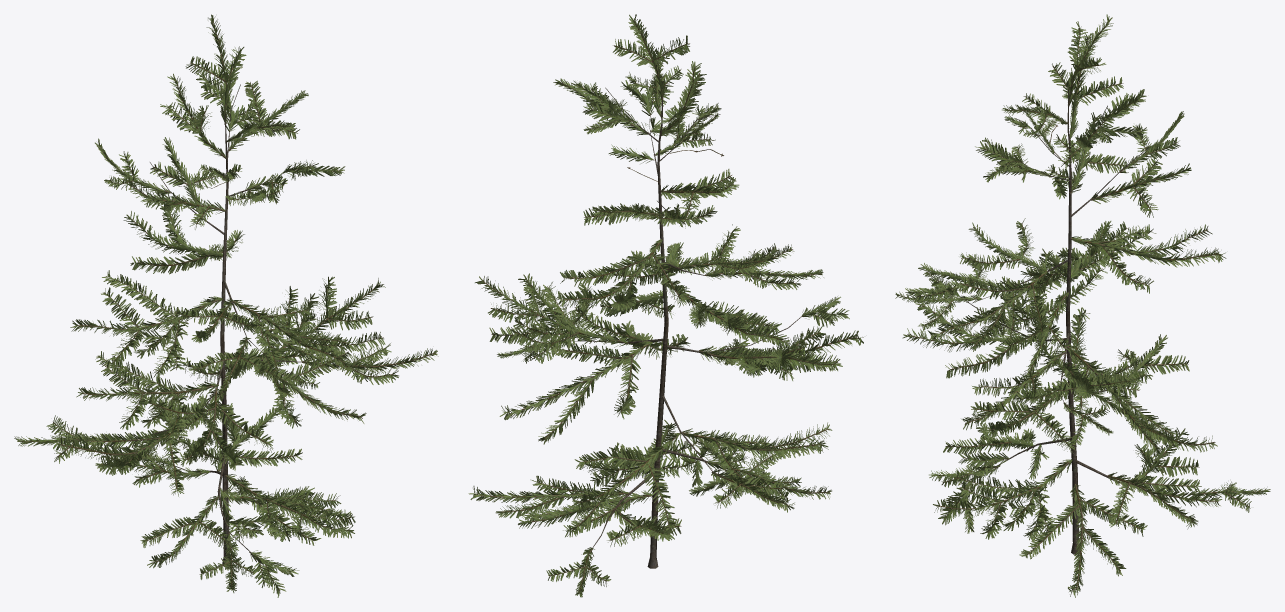
3 renders of one model, left to right at view 1: azimuth 30°, elevation 25°; view 2: azimuth 150°, elevation 25°; view 3: azimuth 270°, elevation 25°, orthographic. The views are drawn at different scales.
Parts seen in each view (by area): view 1: fir_sapling_a; view 2: fir_sapling_a; view 3: fir_sapling_a.
Part boxes in pixels (x1,y1,x2,y2): fir_sapling_a: [14, 14, 438, 597]; fir_sapling_a: [468, 14, 863, 597]; fir_sapling_a: [895, 14, 1270, 597].
Bounding box in the file's own units: 0.8611 × 1.3 × 0.8222.
Materials: 2 (2 with a texture image).
